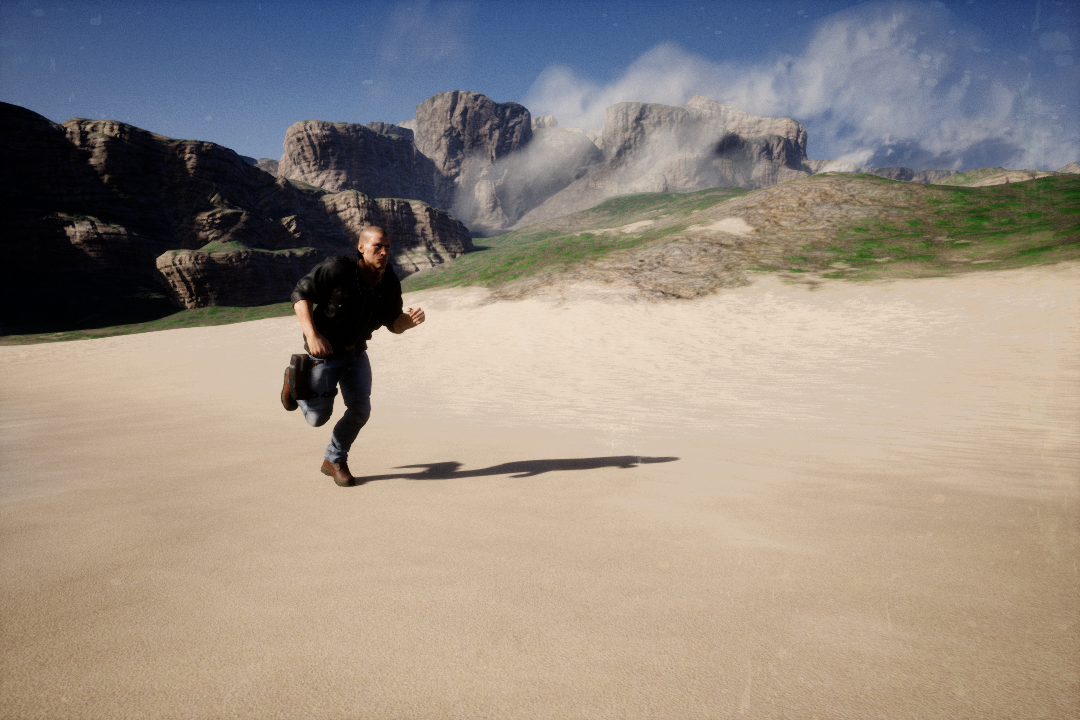person: (285, 221, 418, 497)
